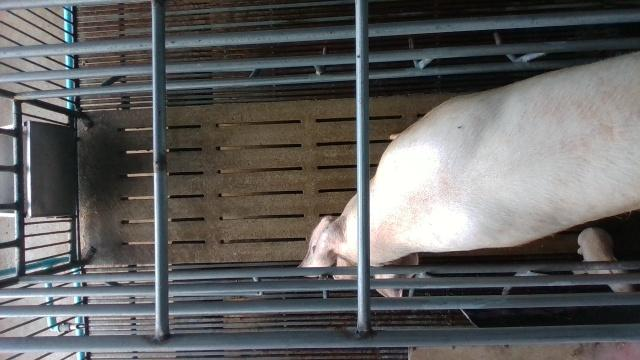piglet: (578, 227, 637, 291)
sow-stand: (297, 50, 640, 296)
